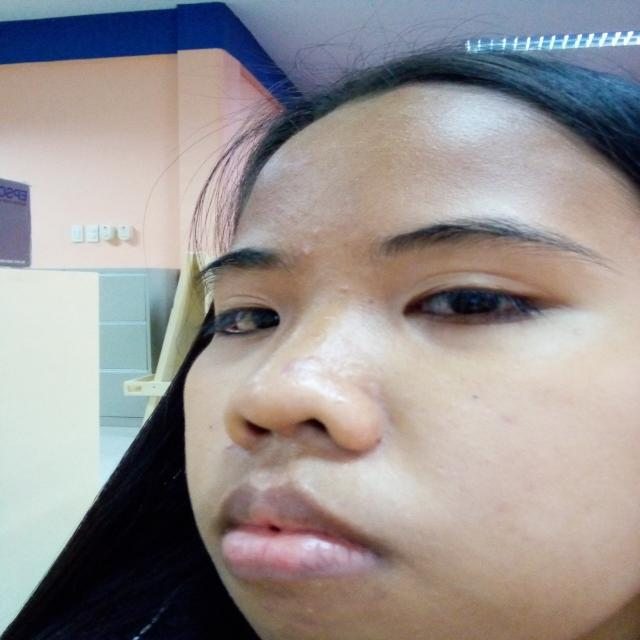Acne: (301, 247, 320, 263), (303, 228, 329, 238), (338, 284, 353, 295), (226, 441, 234, 453)
